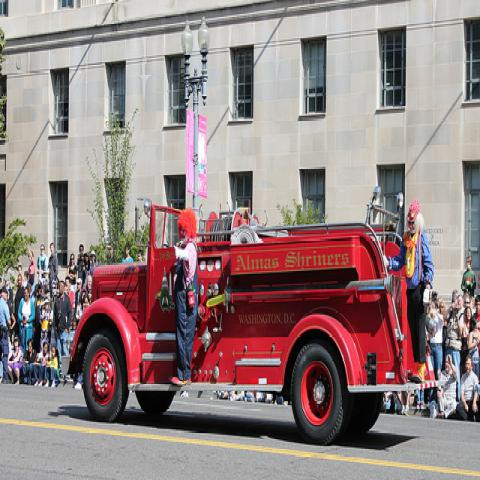truck: (67, 185, 440, 443)
